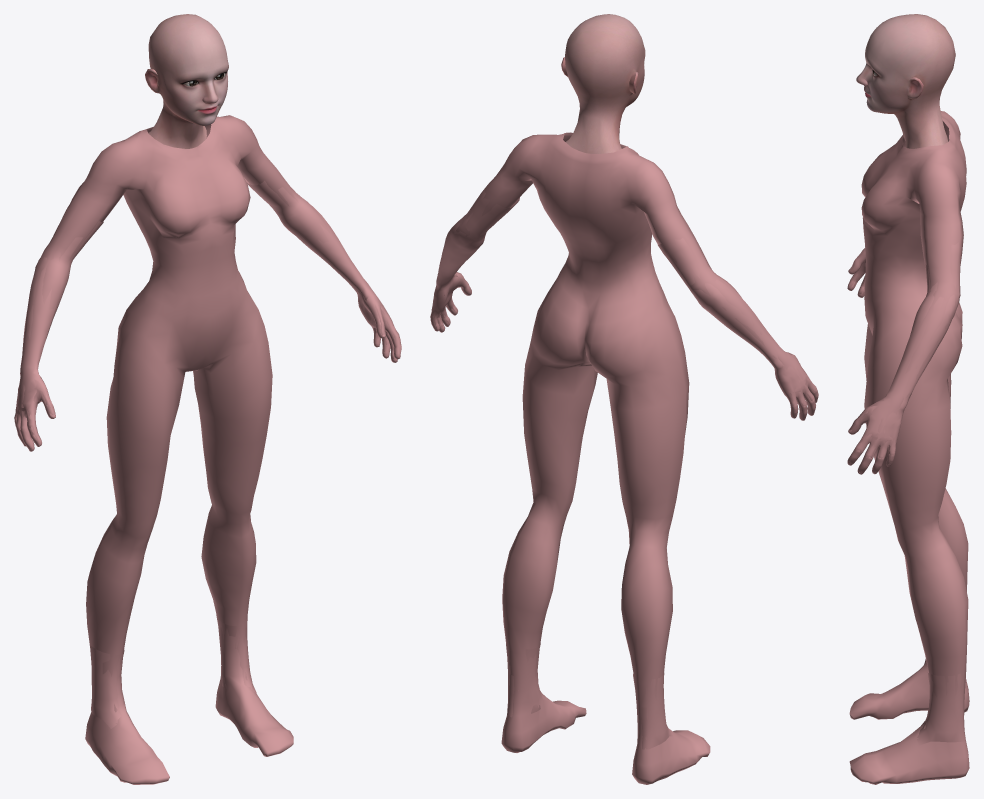
The model's file is full-women.glb.
3 views of the same model, side by side, from view 1: azimuth 30°, elevation 25°; view 2: azimuth 150°, elevation 25°; view 3: azimuth 270°, elevation 25° (orthographic).
Parts seen in each view (by area): view 1: Women_Maneken, Women_Body, Women_Head; view 2: Women_Maneken, Women_Body, Women_Head; view 3: Women_Maneken, Women_Head, Women_Body.
Boxes of the visible parts, x1,y1,x2,y2 form: Women_Maneken: (14,115,401,784); Women_Body: (14,177,401,728); Women_Head: (145,14,228,148); Women_Maneken: (430,132,817,784); Women_Body: (430,190,818,749); Women_Head: (561,14,645,153); Women_Maneken: (847,111,969,784); Women_Head: (856,14,955,148); Women_Body: (847,242,965,745).
Bounding box in the file's own units: 0.9283 × 1.72 × 0.2621.
Materials: 4 (4 with a texture image).
